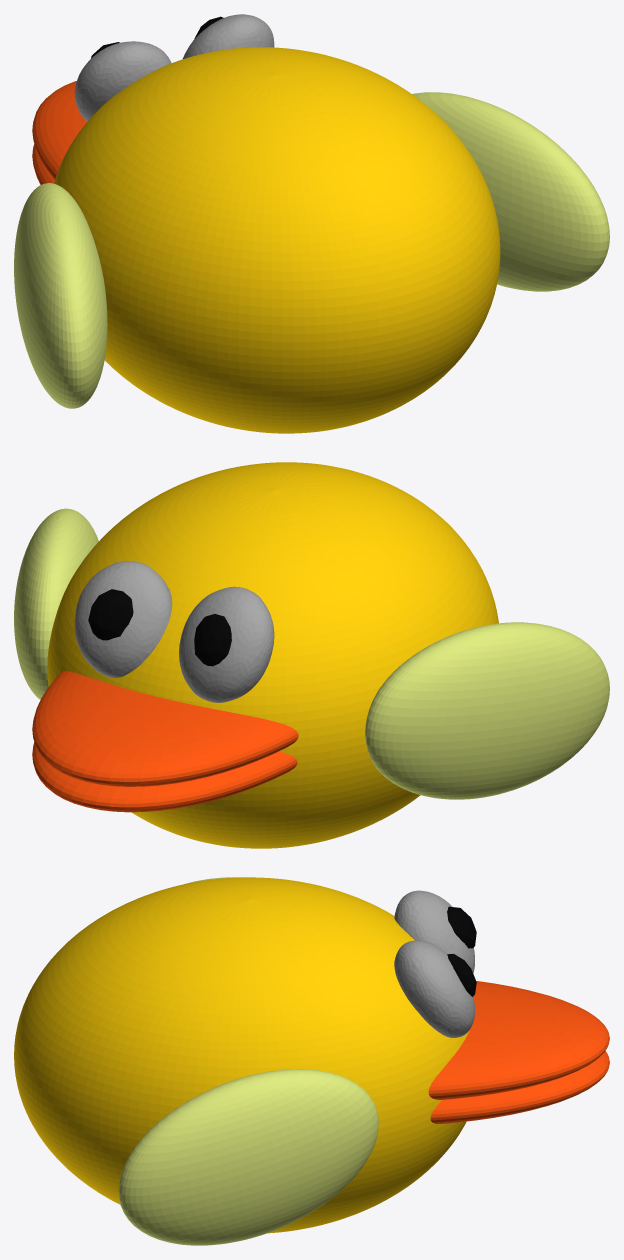
File: bird.fbx
3 views of the same model, one above another, from view 1: azimuth 30°, elevation 25°; view 2: azimuth 150°, elevation 25°; view 3: azimuth 270°, elevation 25° (orthographic). The views are drawn at different scales.
Parts seen in each view (by area): view 1: Sphere, Sphere.003, Icosphere, Sphere.001; view 2: Sphere, Sphere.003, Sphere.001, Icosphere, Sphere.002, Icosphere.001; view 3: Sphere, Sphere.003, Sphere.001, Icosphere, Sphere.002, Icosphere.001.
Part boxes in pixels (x1=…): Sphere: x1=54, y1=47, x2=500, y2=433; Sphere.003: x1=14, y1=92, x2=609, y2=408; Icosphere: x1=74, y1=14, x2=274, y2=121; Sphere.001: x1=32, y1=81, x2=86, y2=179; Sphere: x1=47, y1=462, x2=498, y2=848; Sphere.003: x1=14, y1=508, x2=609, y2=799; Sphere.001: x1=32, y1=671, x2=298, y2=786; Icosphere: x1=74, y1=561, x2=274, y2=702; Sphere.002: x1=32, y1=742, x2=297, y2=812; Icosphere.001: x1=88, y1=589, x2=231, y2=666; Sphere: x1=14, y1=877, x2=469, y2=1233; Sphere.003: x1=118, y1=877, x2=378, y2=1245; Sphere.001: x1=428, y1=981, x2=609, y2=1099; Icosphere: x1=394, y1=890, x2=474, y2=1037; Sphere.002: x1=430, y1=1051, x2=609, y2=1123; Icosphere.001: x1=447, y1=906, x2=476, y2=996.
Size of the model in its own units: 129 by 73.82 by 128.
